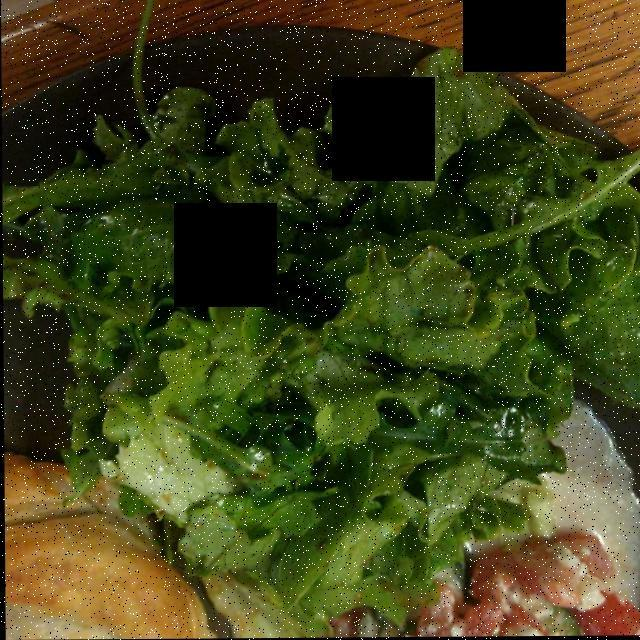salad: (46, 89, 628, 623)
